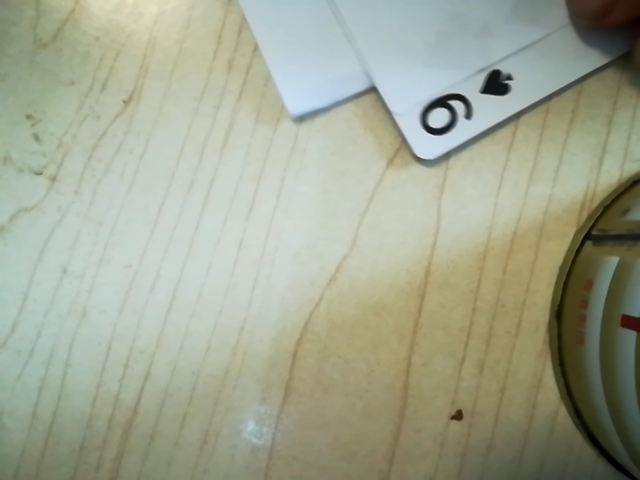ht 9: (399, 51, 542, 155)
